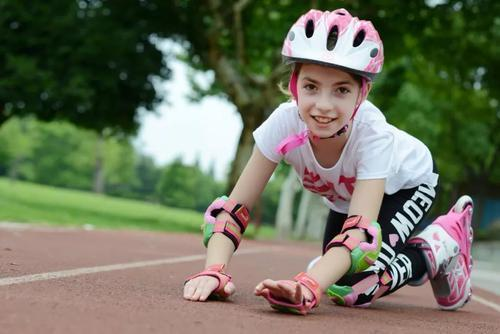Fall-Detected: (182, 4, 472, 316)
